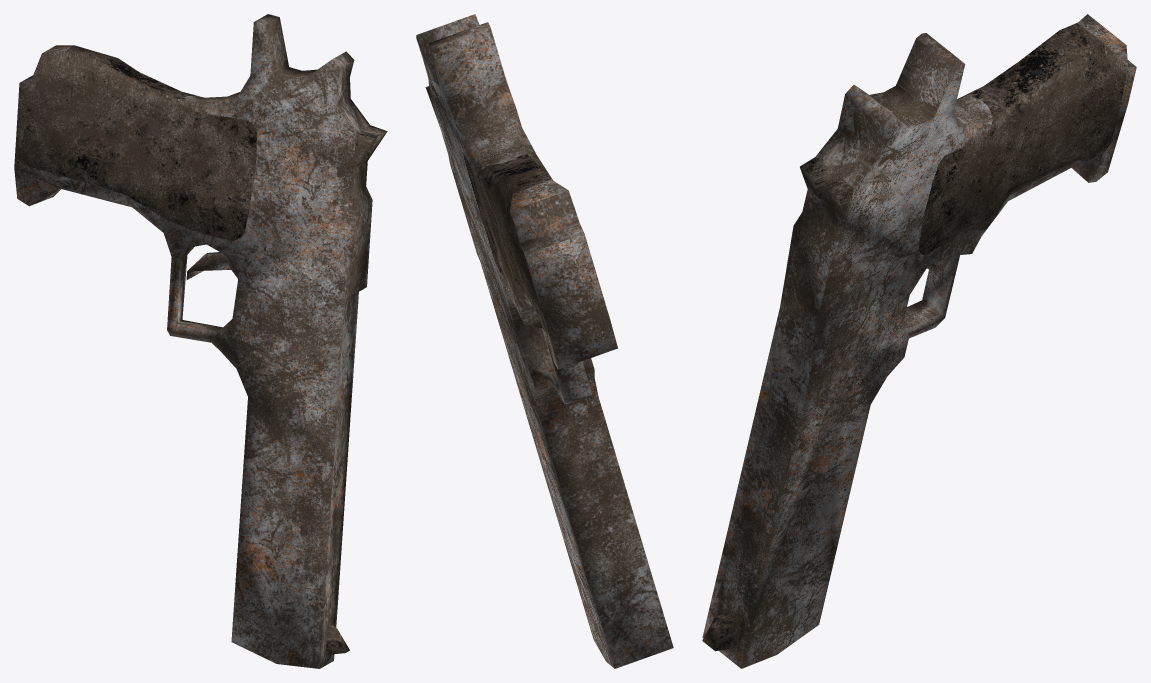
The model's file is Anim_disparar_pistola_objetos.0013.obj.
3 views of the same model, side by side, from view 1: azimuth 30°, elevation 25°; view 2: azimuth 150°, elevation 25°; view 3: azimuth 270°, elevation 25° (orthographic). The views are drawn at different scales.
Visible parts, largest first — view 1: Pistola1; view 2: Pistola1; view 3: Pistola1.
Part boxes in pixels (box(x1,y1,x2,y2)): Pistola1: box(14, 14, 387, 668); Pistola1: box(416, 14, 673, 668); Pistola1: box(702, 14, 1136, 668).
Bounding box in the file's own units: 0.8111 × 1.68 × 1.04.
